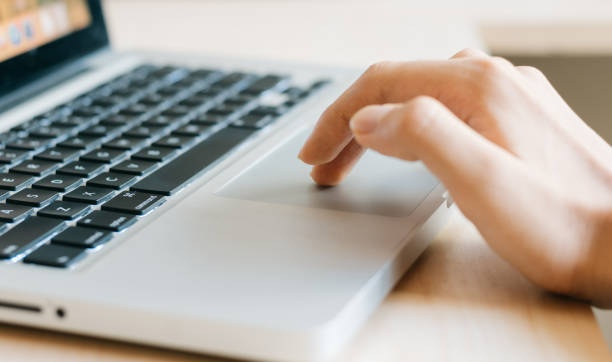keyboard: (1, 62, 332, 267)
